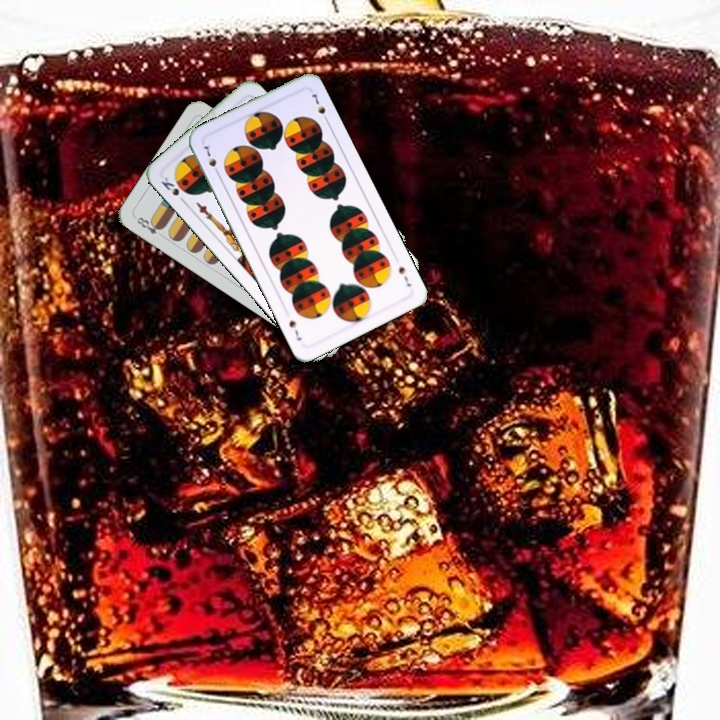E8: (131, 213, 166, 240)
S7: (198, 139, 222, 178), (394, 262, 414, 289)
SK: (157, 173, 189, 207)
